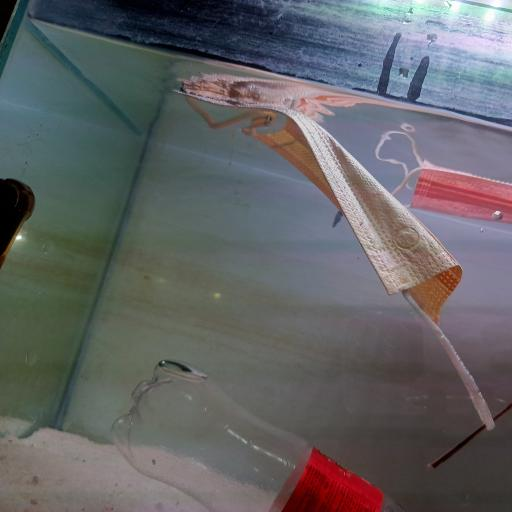mask: (184, 73, 512, 426), (373, 114, 512, 232)
plastic_bottle: (105, 356, 410, 512)
